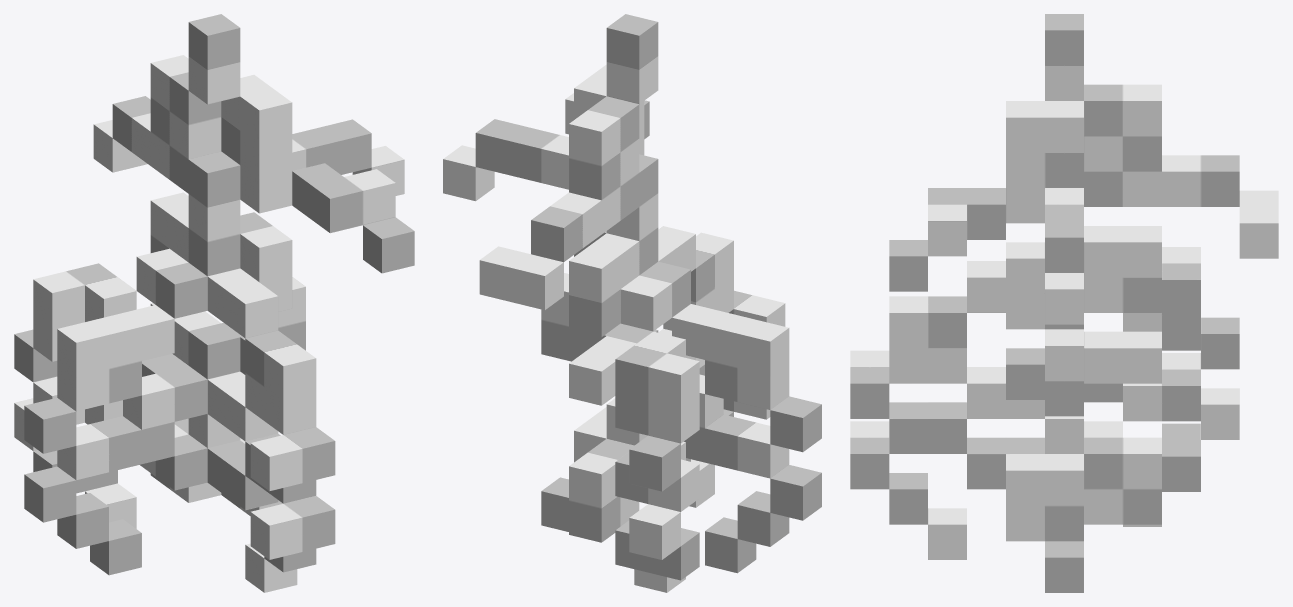
File: Web_2.glb
The picture shows the model from 3 angles, left to right: view 1: azimuth 30°, elevation 25°; view 2: azimuth 150°, elevation 25°; view 3: azimuth 270°, elevation 25°; orthographic projection. The views are drawn at different scales.
Visible parts, largest first — view 1: Web_2; view 2: Web_2; view 3: Web_2.
Boxes of the visible parts, x1,y1,x2,y2 form: Web_2: [14, 14, 414, 592]; Web_2: [443, 14, 821, 592]; Web_2: [850, 14, 1278, 592].
Size of the model in its own units: 1.1 by 1.5 by 1.1.
1 material, 1 textured.
